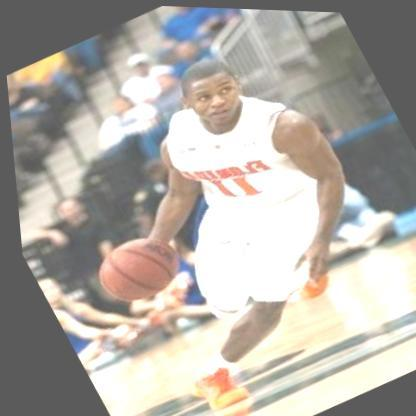basketball: (77, 219, 193, 317)
